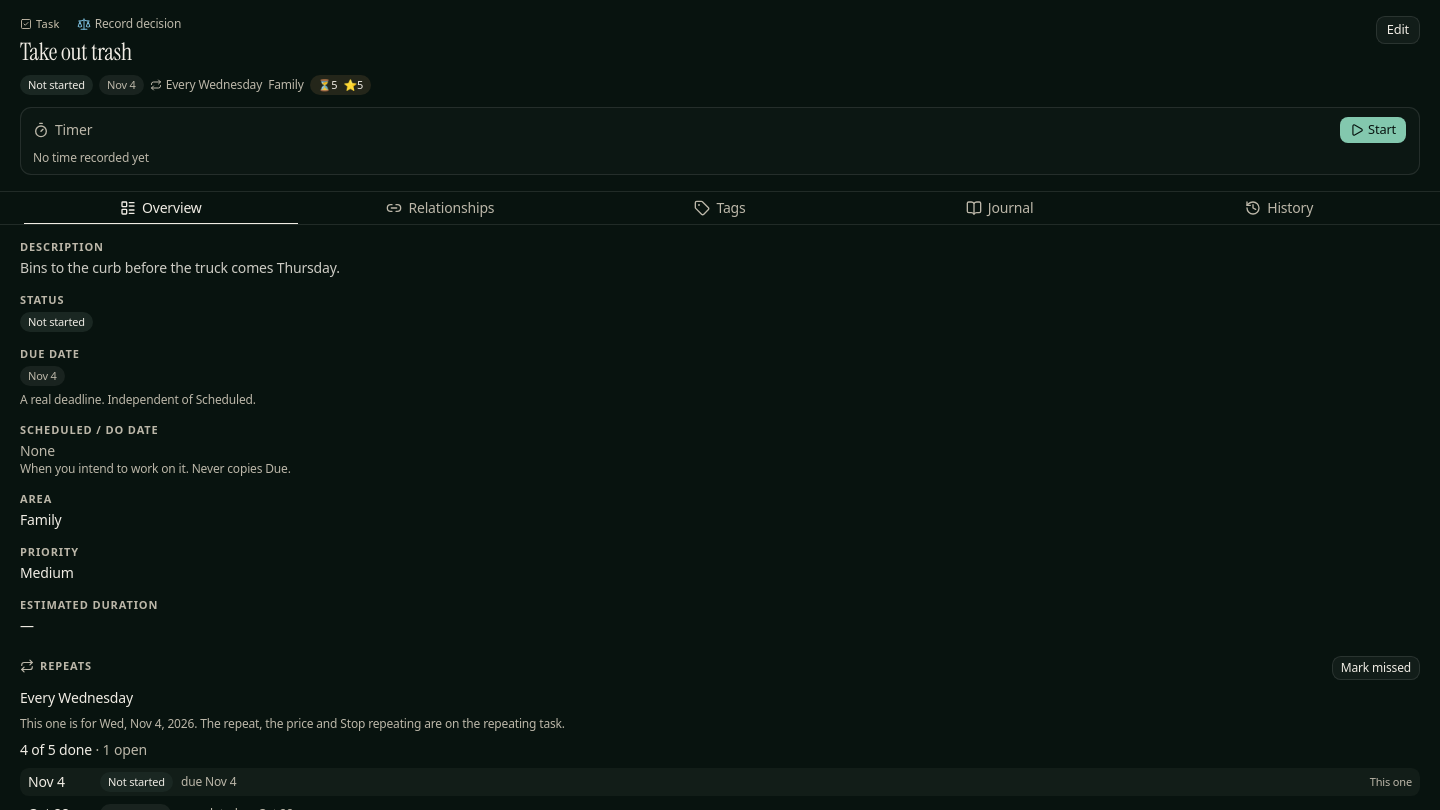
Test: SubjectDetail repeating tasks (TASKS-3) › says how a repetition repeats, lists the history, and marks it missed
expect the text "Every Wednesday" is shown: met, box [20,688,133,707]
expect the text "4 of 5 done · 1 open" is shown: met, box [20,740,147,759]
Step 1. Click the button "Mark missed" → (1376, 668), box [1332,656,1420,680]
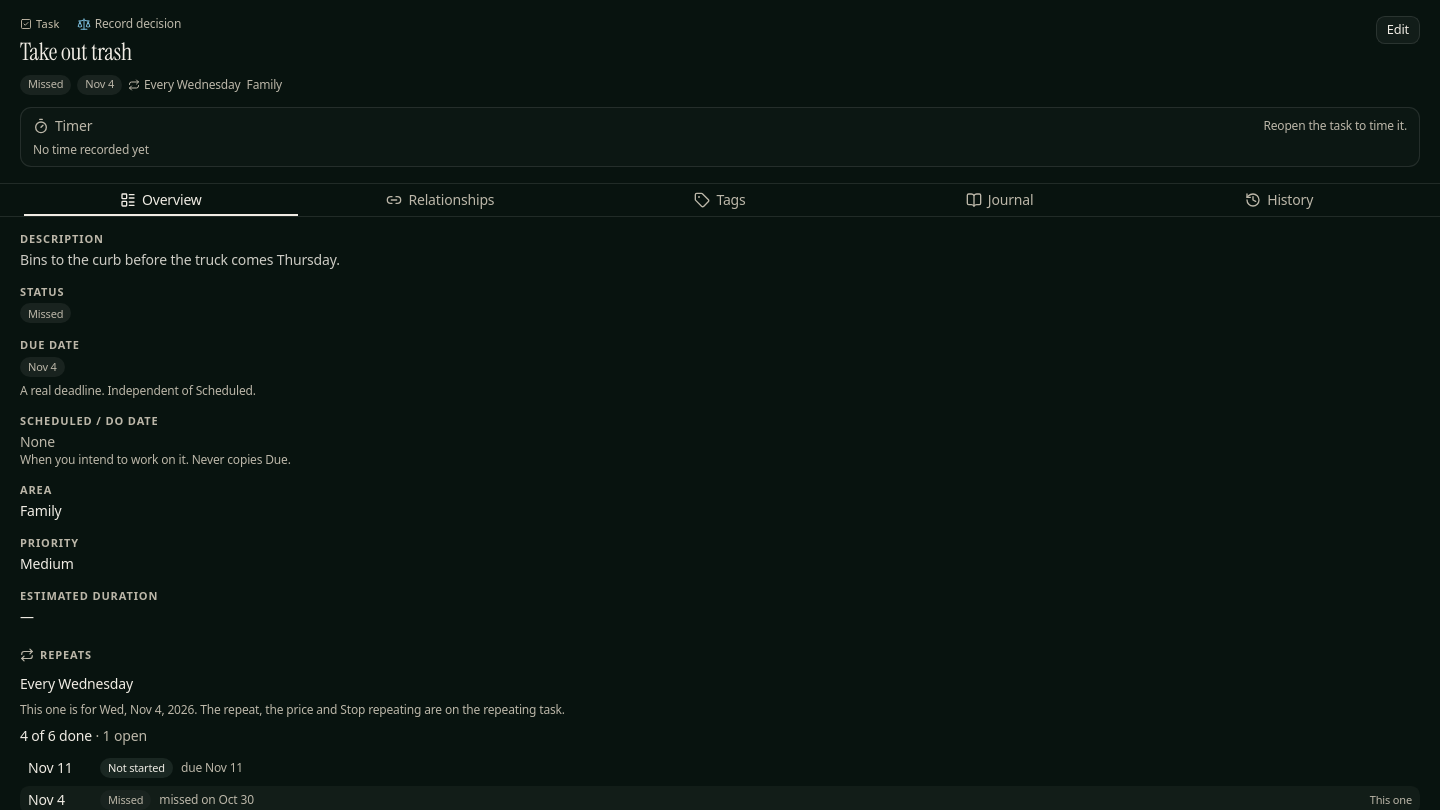
expect the text "Missed" below "Take out trash" is shown: met, box [28,76,63,91]
